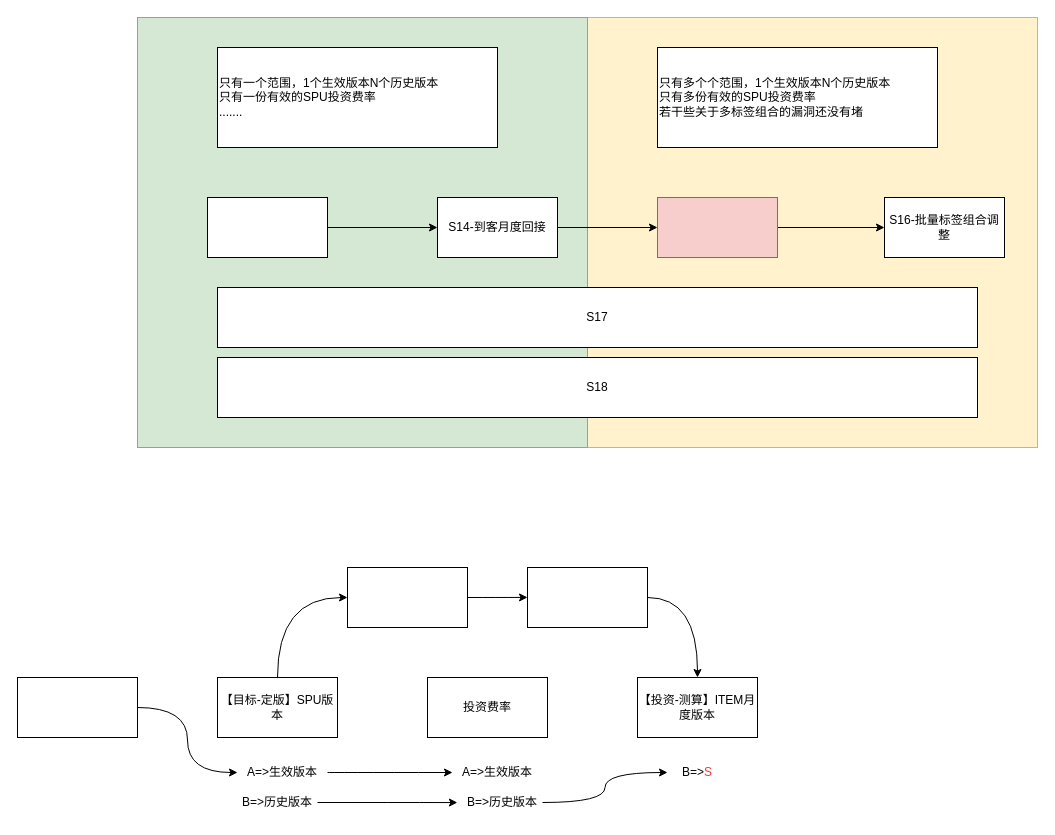
This 1055x835 diagram has some shape labels left out. Each missing label, with the centre of its shape:
"N值变更" belongs at point 77,707.
"S13-到客年度回接" belongs at point 267,227.
"S15-多标签组合搭建 上线：只有默认标签组合" belongs at point 717,227.
"【目标-定版】ITEM年" belongs at point 587,597.
"【目标-测算】拆分获得ITEM" belongs at point 407,597.
